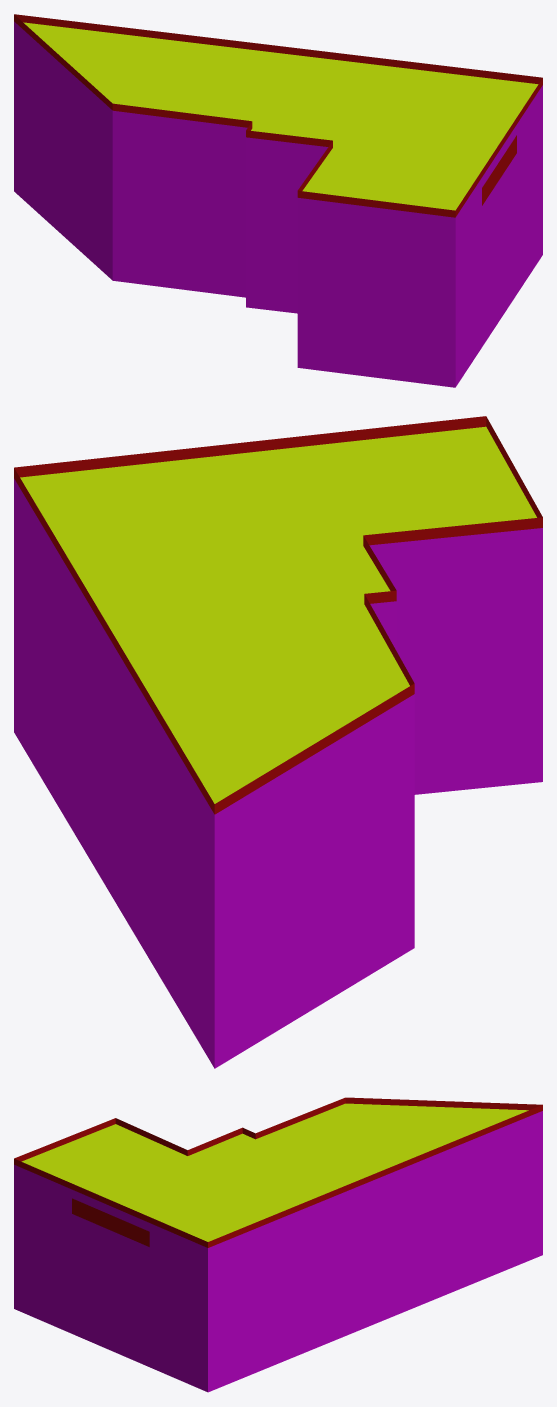
File: ssv_69.glb
The picture shows the model from 3 angles, top to bottom: view 1: azimuth 30°, elevation 25°; view 2: azimuth 150°, elevation 25°; view 3: azimuth 270°, elevation 25°; orthographic projection. The views are drawn at different scales.
Visible parts, largest first — view 1: ssv_69; view 2: ssv_69; view 3: ssv_69.
Part boxes in pixels (left/top/right/bottom): ssv_69: left=14, top=14, right=542, bottom=387; ssv_69: left=14, top=416, right=542, bottom=1068; ssv_69: left=14, top=1097, right=542, bottom=1392.
Size of the model in its own units: 18 by 8.73 by 27.83.
